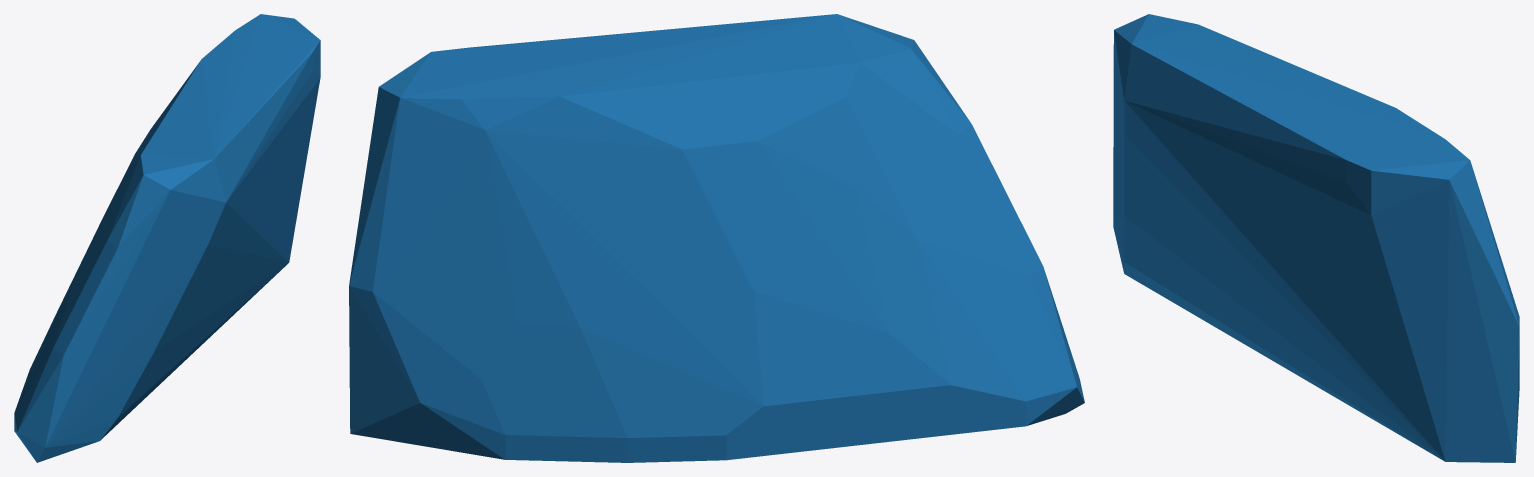
Rendered from mouth_cup030.obj.
3 views of the same model, side by side, from view 1: azimuth 30°, elevation 25°; view 2: azimuth 150°, elevation 25°; view 3: azimuth 270°, elevation 25° (orthographic). The views are drawn at different scales.
Visible parts, largest first — view 1: mouth_cup030; view 2: mouth_cup030; view 3: mouth_cup030.
Part boxes in pixels (x1,y1,x2,y2): mouth_cup030: (14, 14, 320, 462); mouth_cup030: (349, 14, 1084, 462); mouth_cup030: (1113, 14, 1519, 462).
Size of the model in its own units: 0.1341 by 0.0822 by 0.0985.
